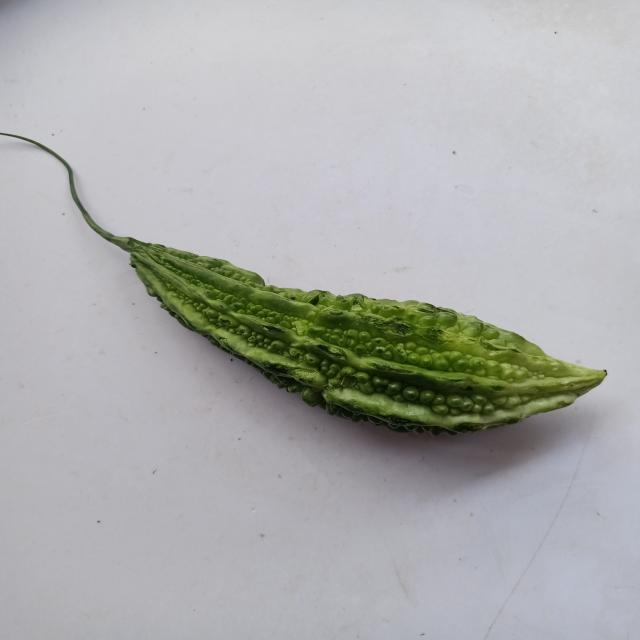Bitter Gourd: (0, 59, 640, 488)
